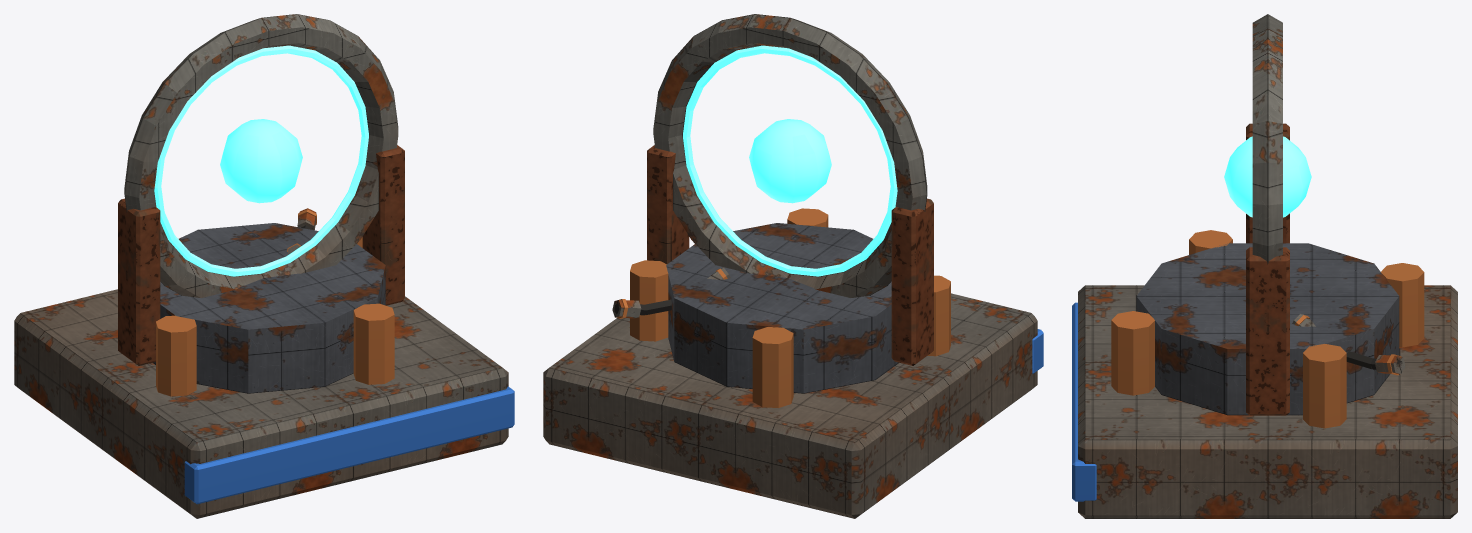
File: optimisation.glb
3 renders of one model, left to right at view 1: azimuth 30°, elevation 25°; view 2: azimuth 150°, elevation 25°; view 3: azimuth 270°, elevation 25°, orthographic. The views are drawn at different scales.
Visible parts, largest first — view 1: optimisation; view 2: optimisation; view 3: optimisation.
Part boxes in pixels (x1=…): optimisation: x1=14, y1=14, x2=514, y2=518; optimisation: x1=543, y1=14, x2=1043, y2=518; optimisation: x1=1072, y1=14, x2=1457, y2=518.
Bounding box in the file's own units: 2.62 × 3.12 × 2.64.
Materials: 7 (3 with a texture image).
